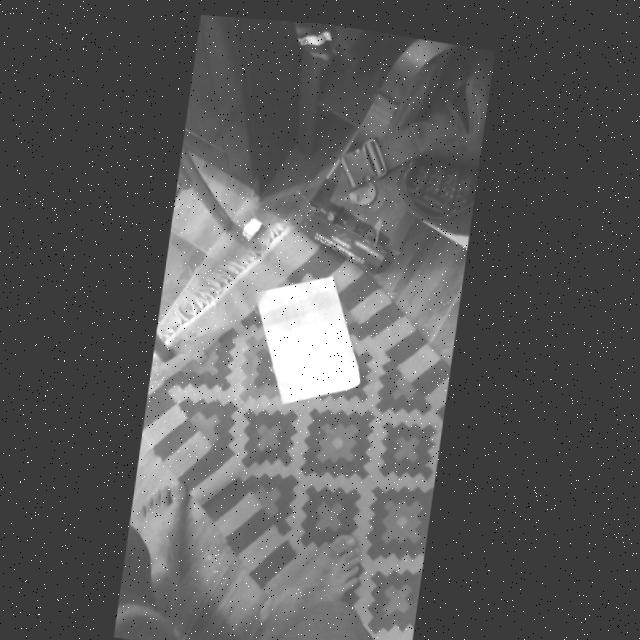document: (255, 276, 359, 405)
